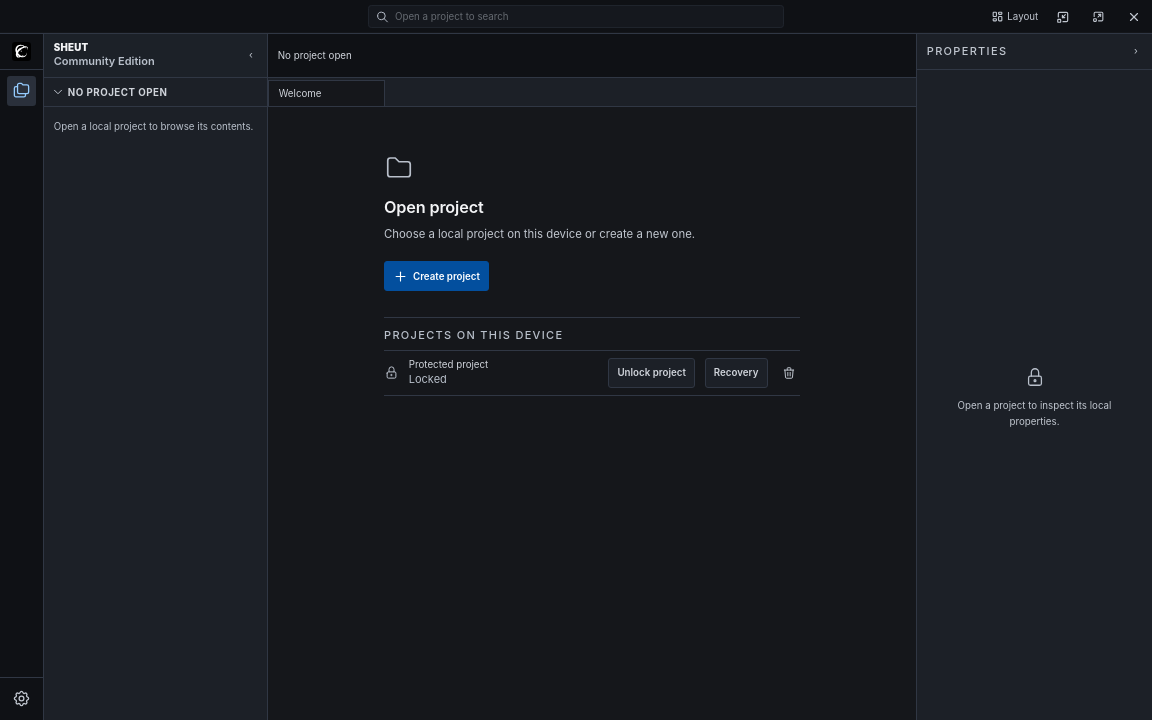
Test: App › requires the project passphrase for a fresh protected unlock
The width and height of the screenshot is (1152, 720).
Expected: the text "Protected project" is shown, [409,359,488,370]
Step 1. Click the button "Unlock project" → (652, 373), box [608,358,695,388]
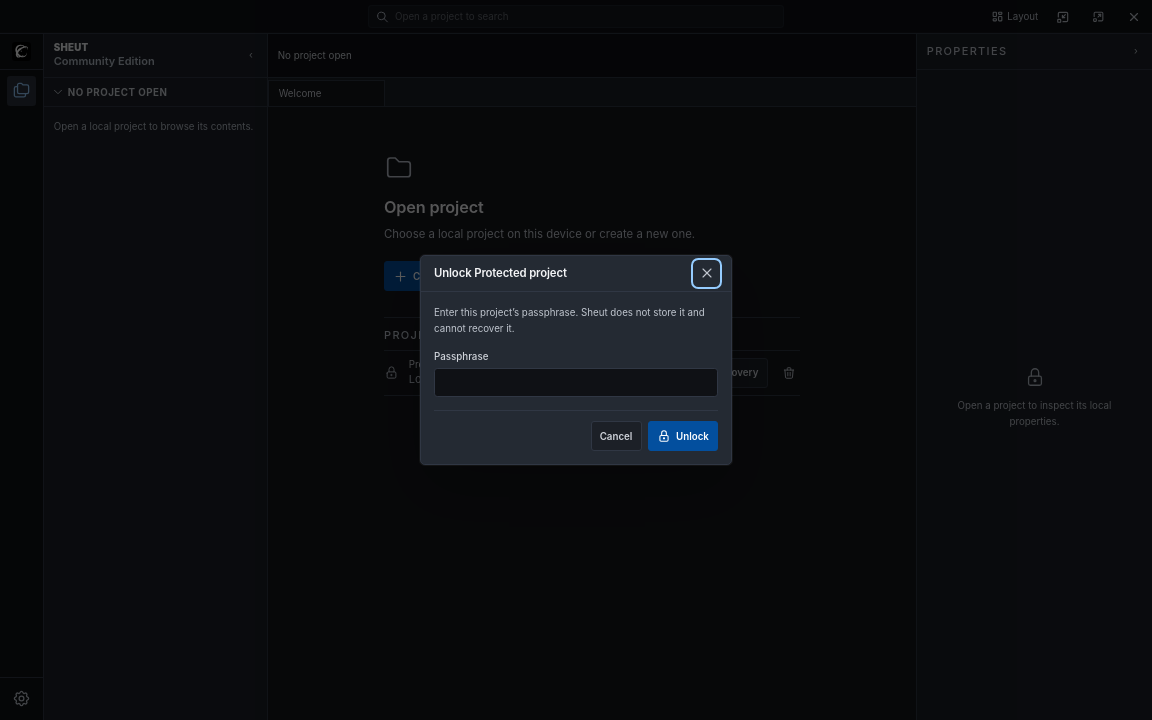
Step 2. Type "correct horse battery staple" into the password field labelled "Passphrase" → (576, 383), box [434,368,718,397]
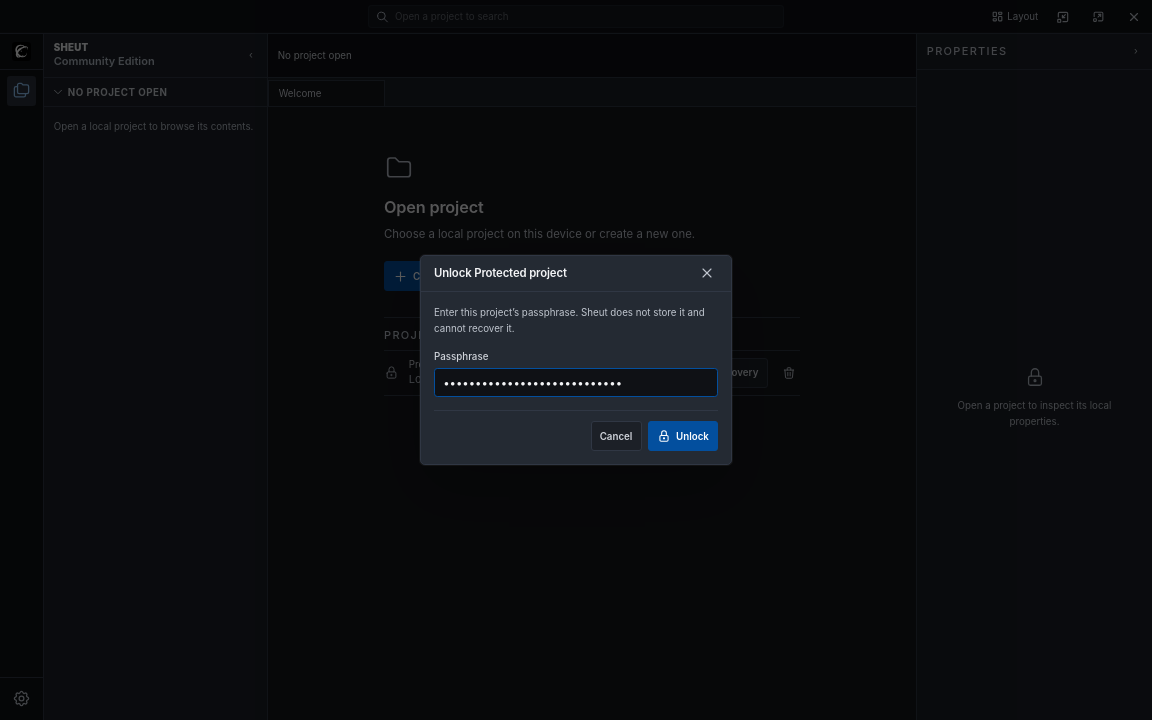
Step 3. Click the button "Unlock" → (683, 436), box [648,421,718,451]
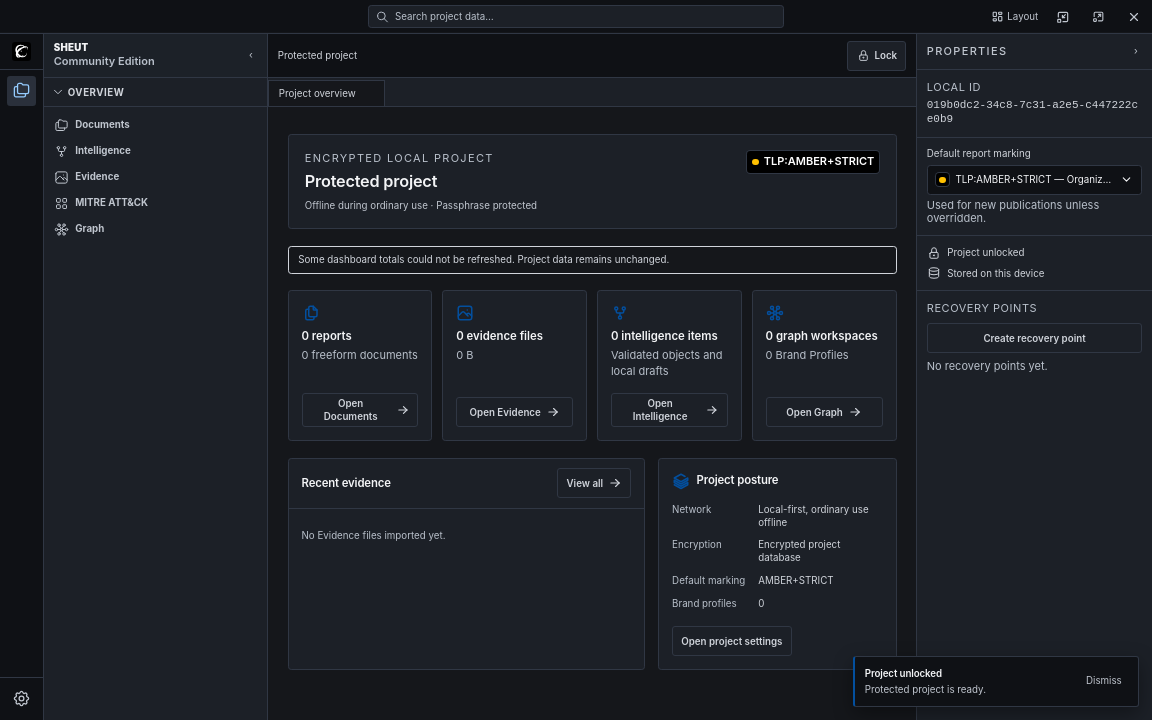
Result: the button "Lock" is enabled at [847,40,906,70]
Result: the dialog "Project unlocked" is shown at [853,656,1139,707]
